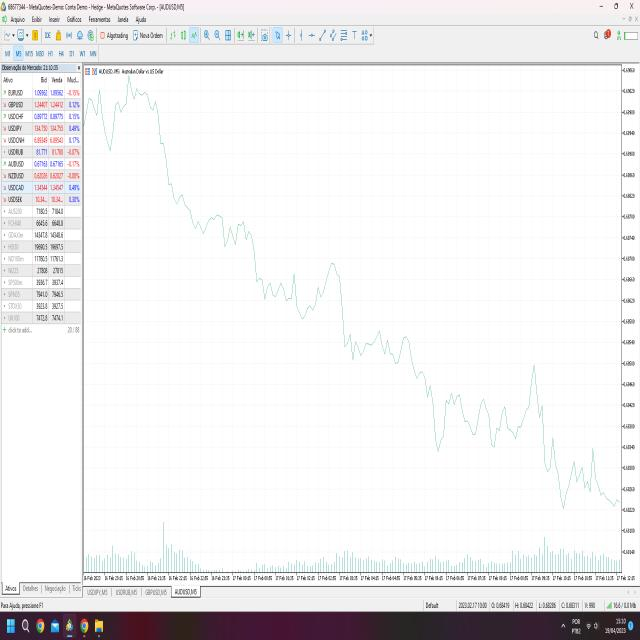bandeira_baixa: (336, 256, 384, 374)
